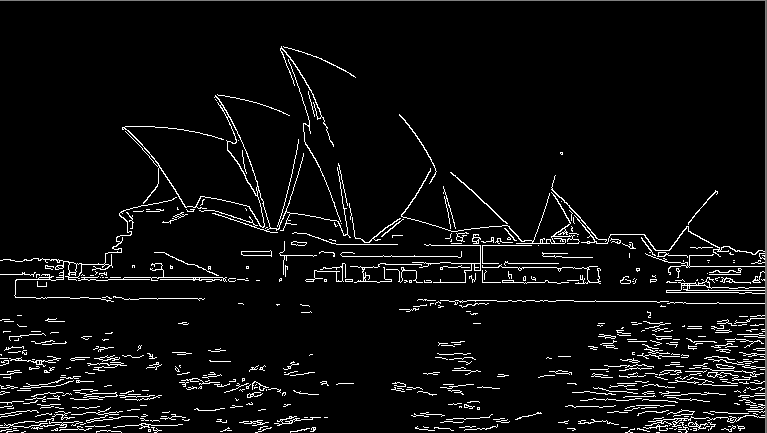opera house: (83, 36, 718, 276)
